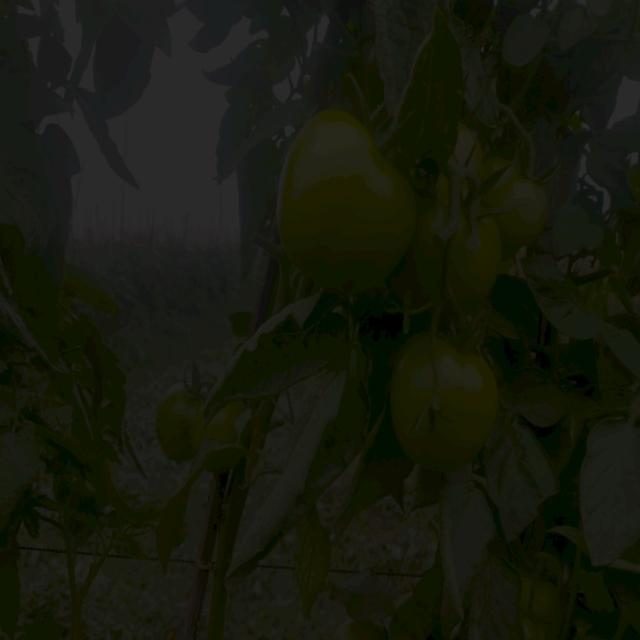tomato: (278, 114, 411, 291), (393, 327, 502, 474), (486, 158, 559, 266), (453, 209, 508, 306), (165, 384, 203, 468), (517, 577, 562, 639), (421, 198, 444, 300), (208, 402, 240, 458), (458, 120, 486, 175)
